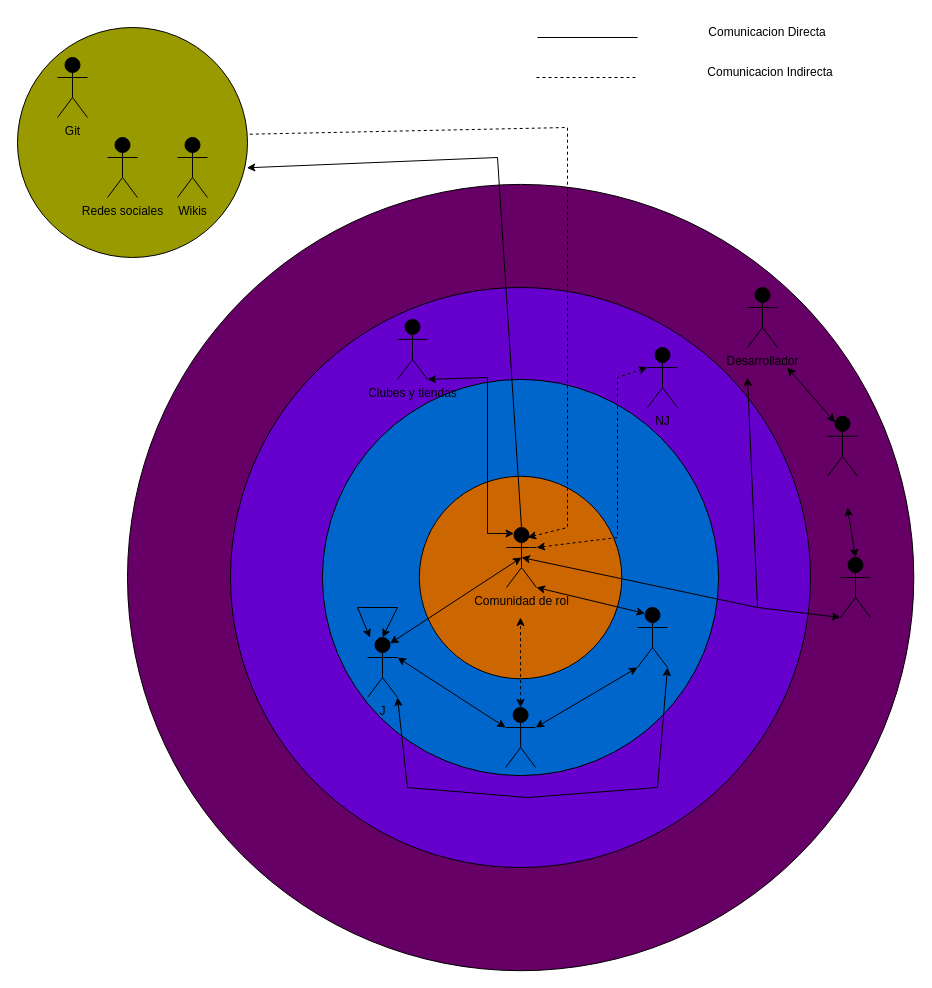
Some shapes in this 932 by 988 pixel diagram are drawn without their labels. The centre of each missing label's shape, as x and y in pixels:
"CC" goes at pixel 520 737.
"MJ" goes at pixel 652 637.
"Probadores" goes at pixel 842 445.
"Traductores" goes at pixel 855 587.
